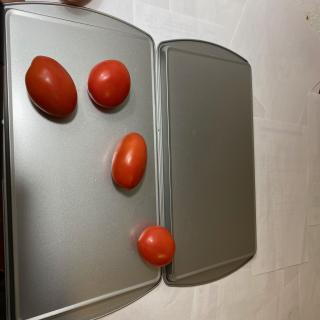Tomato: (24, 55, 78, 117), (87, 59, 131, 108), (111, 132, 147, 190), (137, 225, 176, 267)
